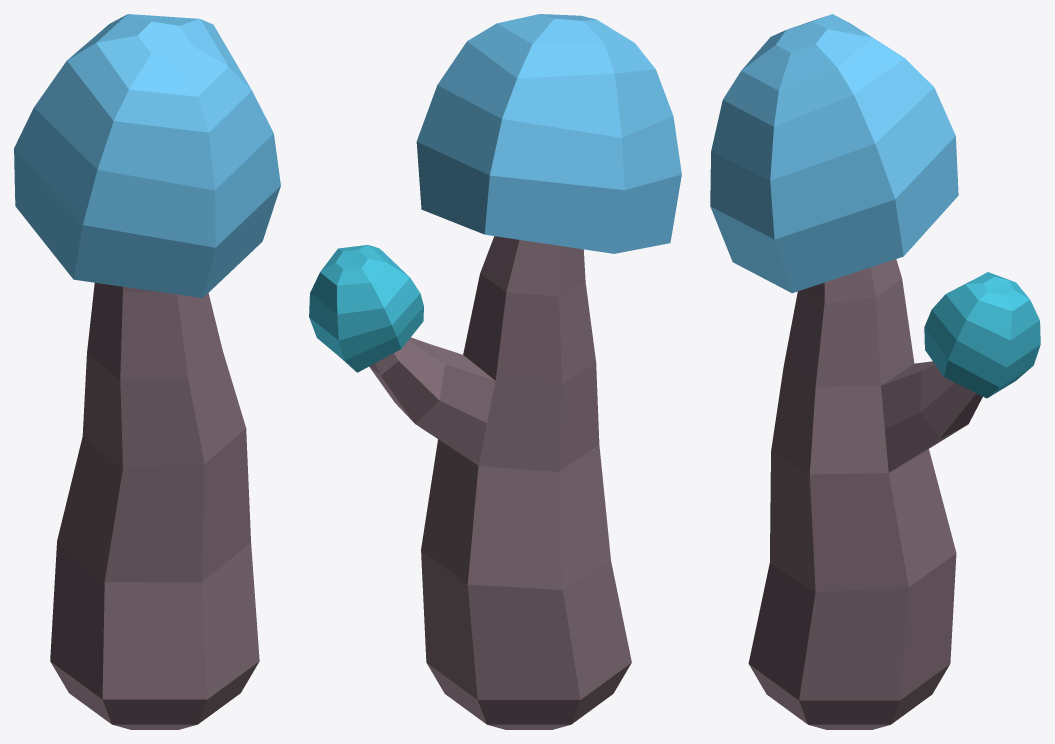
File: mushroom4.gltf
3 views of the same model, side by side, from view 1: azimuth 30°, elevation 25°; view 2: azimuth 150°, elevation 25°; view 3: azimuth 270°, elevation 25° (orthographic). The views are drawn at different scales.
Visible parts, largest first — view 1: Cylinder; view 2: Cylinder; view 3: Cylinder.
Part boxes in pixels (<box>): Cylinder: <box>14,14,280,729</box>; Cylinder: <box>309,14,681,729</box>; Cylinder: <box>710,14,1040,729</box>.
Size of the model in its own units: 2.89 by 7.4 by 3.27.
Materials: 1 (1 with a texture image).
